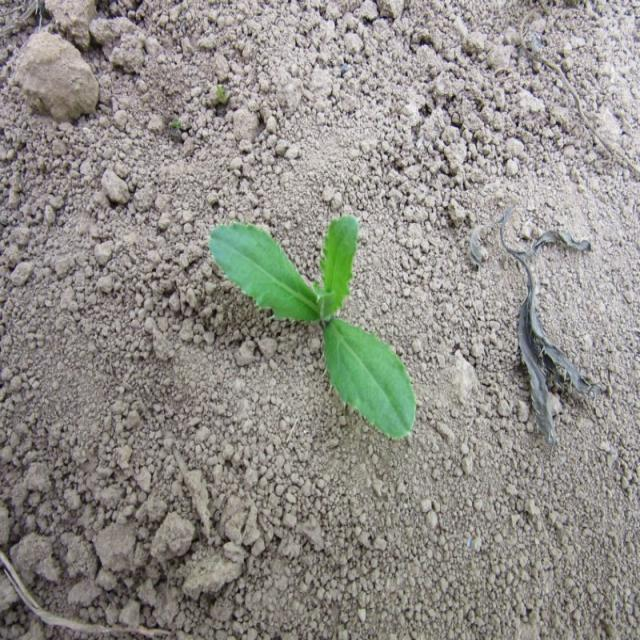field_thistle: (193, 195, 424, 434)
